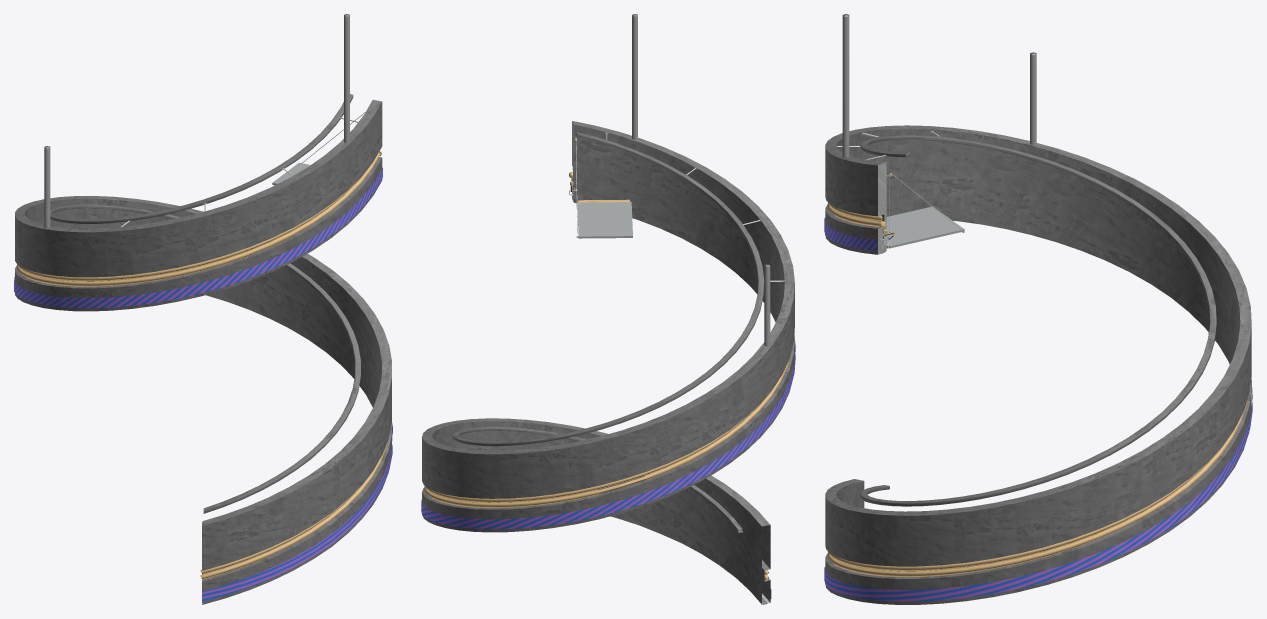
File: Spring.fbx
The picture shows the model from 3 angles, left to right: view 1: azimuth 30°, elevation 25°; view 2: azimuth 150°, elevation 25°; view 3: azimuth 270°, elevation 25°; orthographic projection. The views are drawn at different scales.
Visible parts, largest first — view 1: Spring_with_rail, Danger_paint, Guardrail, Pipe2, Pipe, pCylinder93, pCylinder95; view 2: Spring_with_rail, Guardrail, Danger_paint, Pipe2, Gangway, Pipe, pCylinder93, pCylinder95; view 3: Spring_with_rail, Guardrail, Danger_paint, Pipe2, Gangway, Pipe, pCylinder93, pCylinder95.
Boxes of the visible parts, box(x1,y1,x2,y2) form: Spring_with_rail: box(15, 99, 391, 604); Danger_paint: box(14, 167, 392, 601); Guardrail: box(50, 94, 360, 513); Pipe2: box(16, 152, 388, 579); Pipe: box(16, 163, 372, 574); pCylinder93: box(344, 14, 349, 142); pCylinder95: box(44, 146, 50, 228); Spring_with_rail: box(422, 121, 794, 604); Guardrail: box(452, 132, 764, 532); Danger_paint: box(421, 342, 795, 598); Pipe2: box(424, 177, 792, 580); Gangway: box(577, 202, 632, 238); Pipe: box(425, 168, 772, 575); pCylinder93: box(632, 14, 637, 140); pCylinder95: box(764, 264, 770, 346); Spring_with_rail: box(825, 125, 1251, 604); Guardrail: box(860, 135, 1216, 506); Danger_paint: box(824, 217, 1252, 601); Pipe2: box(827, 204, 1247, 576); Gangway: box(886, 206, 964, 248); Pipe: box(827, 202, 1233, 571); pCylinder93: box(842, 14, 849, 157); pCylinder95: box(1030, 52, 1036, 145).
Size of the model in its own units: 1987 by 3228 by 1988.
